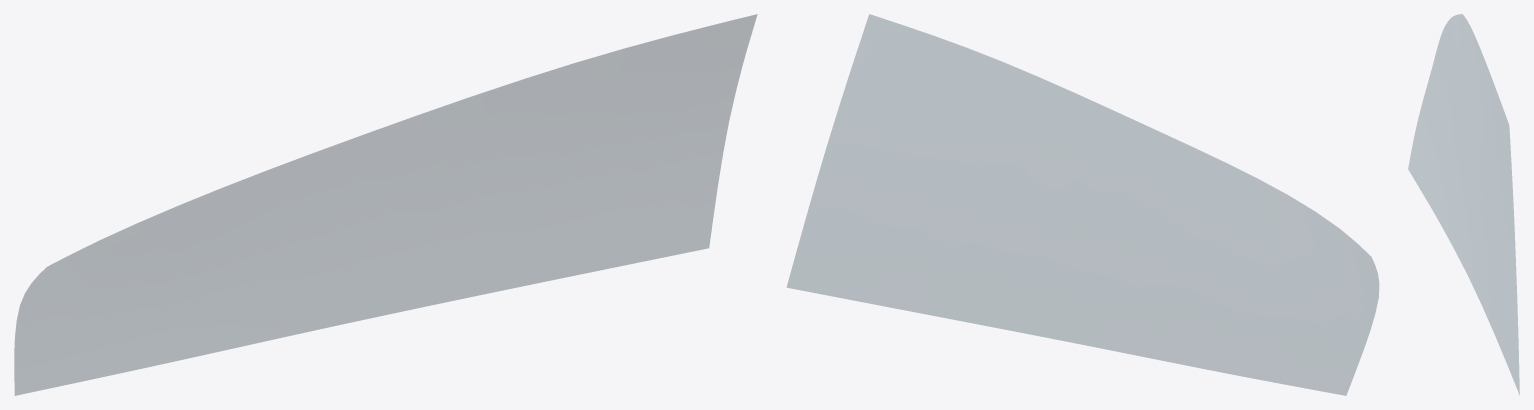
The picture shows the model from 3 angles, left to right: view 1: azimuth 30°, elevation 25°; view 2: azimuth 150°, elevation 25°; view 3: azimuth 270°, elevation 25°; orthographic projection. The views are drawn at different scales.
Visible parts, largest first — view 1: SM_DodgeChargerCop_Door_RL_Glass_Int1; view 2: SM_DodgeChargerCop_Door_RL_Glass_Int1; view 3: SM_DodgeChargerCop_Door_RL_Glass_Int1.
Part boxes in pixels (left/top/right/bottom): SM_DodgeChargerCop_Door_RL_Glass_Int1: left=14, top=14, right=757, bottom=395; SM_DodgeChargerCop_Door_RL_Glass_Int1: left=787, top=14, right=1379, bottom=395; SM_DodgeChargerCop_Door_RL_Glass_Int1: left=1408, top=14, right=1519, bottom=394.
Size of the model in its own units: 0.8063 by 0.3183 by 0.1488.
